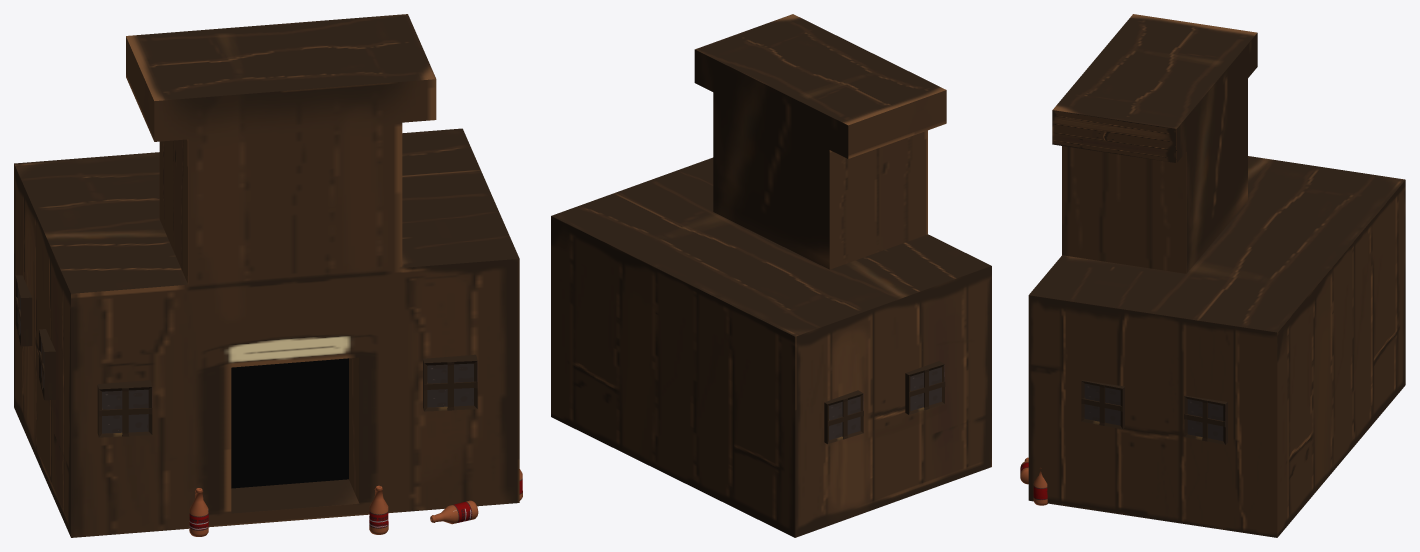
File: brownT.obj
3 views of the same model, side by side, from view 1: azimuth 30°, elevation 25°; view 2: azimuth 150°, elevation 25°; view 3: azimuth 270°, elevation 25° (orthographic). The views are drawn at different scales.
Visible parts, largest first — view 1: Cylinder.009_Cylinder.000, Cube.023, Cube.024, Cube.022, Cube.021, Cylinder.002, Cylinder.004_Cylinder.007, Cylinder.003_Cylinder.006; view 2: Cylinder.009_Cylinder.000, Cube.021, Cube.022; view 3: Cylinder.009_Cylinder.000, Cube.026, Cube.025.
Part boxes in pixels (left/top/right/bottom): Cylinder.009_Cylinder.000: left=14, top=14, right=519, bottom=537; Cube.023: left=97, top=380, right=152, bottom=437; Cube.024: left=423, top=354, right=477, bottom=411; Cube.022: left=15, top=275, right=32, bottom=346; Cube.021: left=38, top=329, right=55, bottom=400; Cylinder.002: left=369, top=485, right=388, bottom=534; Cylinder.004_Cylinder.007: left=189, top=488, right=208, bottom=536; Cylinder.003_Cylinder.006: left=430, top=500, right=478, bottom=524; Cylinder.009_Cylinder.000: left=551, top=14, right=991, bottom=537; Cube.021: left=905, top=361, right=945, bottom=414; Cube.022: left=824, top=390, right=863, bottom=444; Cylinder.009_Cylinder.000: left=1028, top=14, right=1405, bottom=537; Cube.026: left=1184, top=395, right=1227, bottom=444; Cube.025: left=1081, top=380, right=1124, bottom=429.
Bounding box in the file's own units: 14.66 × 13.13 × 12.56.
Materials: 4 (4 with a texture image).
